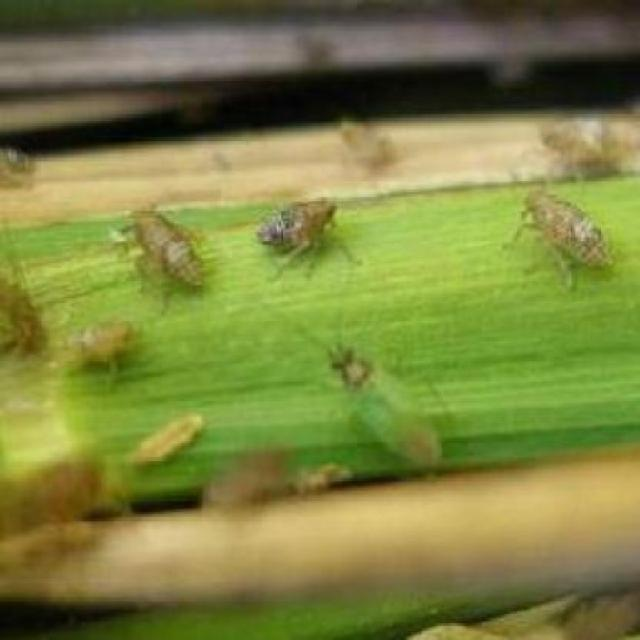brown-planthopper: (513, 184, 613, 270), (129, 204, 208, 290), (256, 190, 341, 259), (0, 143, 40, 180)
